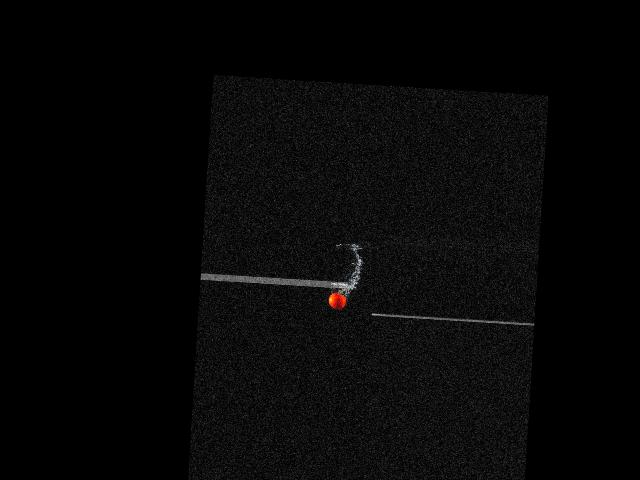tomato: (327, 292, 346, 309)
